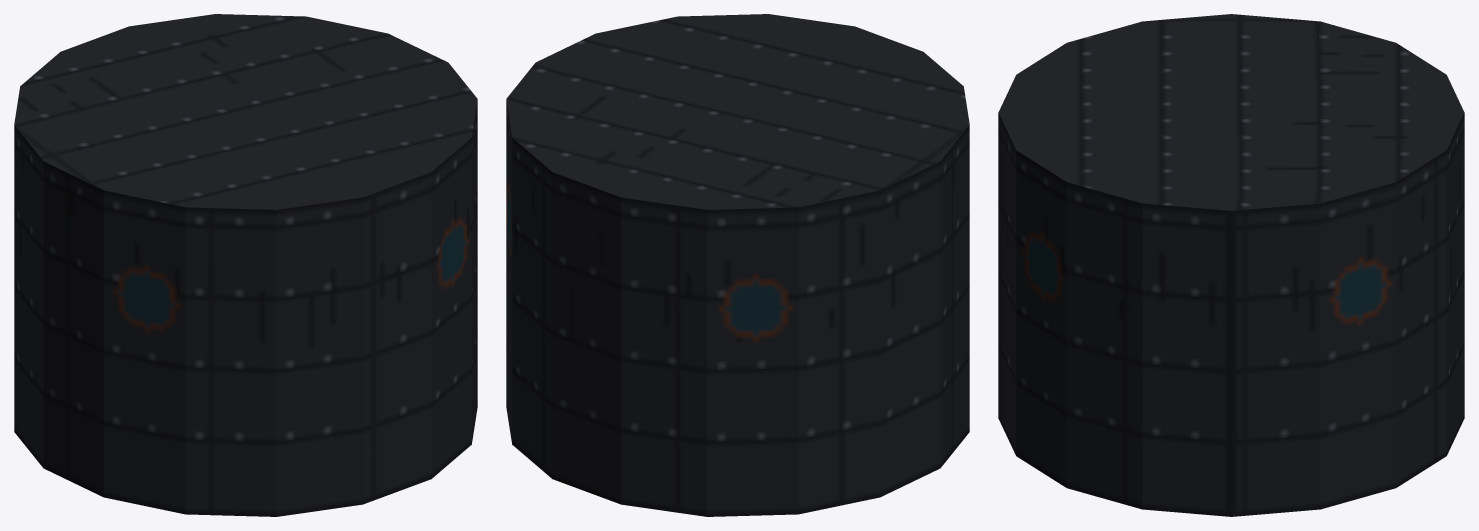
The model's file is DrumLower.obj.
3 renders of one model, left to right at view 1: azimuth 30°, elevation 25°; view 2: azimuth 150°, elevation 25°; view 3: azimuth 270°, elevation 25°, orthographic.
Visible parts, largest first — view 1: DrumLower; view 2: DrumLower; view 3: DrumLower.
Part boxes in pixels (bbox=[...]): DrumLower: bbox=[14, 14, 477, 516]; DrumLower: bbox=[506, 14, 969, 516]; DrumLower: bbox=[998, 14, 1464, 516].
Bounding box in the file's own units: 6.9 × 5 × 6.9.
1 material, 1 textured.
